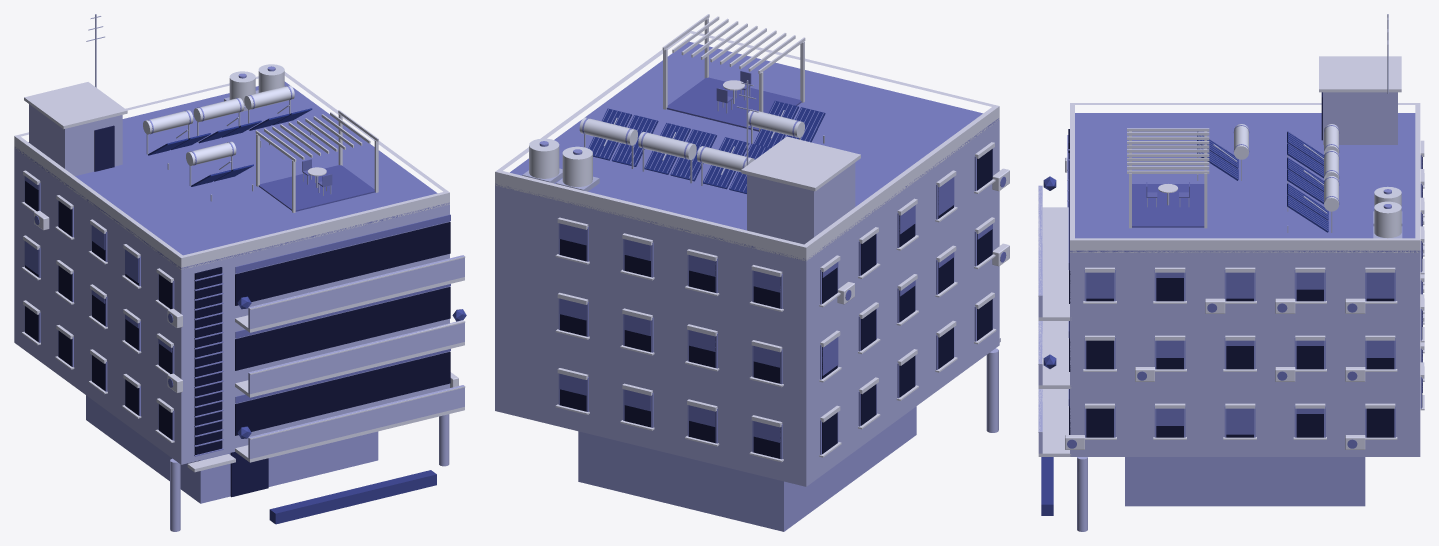
Rendered from blockB.glb.
3 views of the same model, side by side, from view 1: azimuth 30°, elevation 25°; view 2: azimuth 150°, elevation 25°; view 3: azimuth 270°, elevation 25° (orthographic). The views are drawn at different scales.
Visible parts, largest first — view 1: baked1, baked4, baked9, baked6, baked0, baked7, baked12, baked5, baked3, baked14, baked11, baked2 (+2 smaller); view 2: baked1, baked6, baked9, baked0, baked4, baked7, baked11, baked5, baked12, baked14, baked13; view 3: baked1, baked9, baked6, baked0, baked4, baked7, baked5, baked11, baked12, baked14, baked3, baked13.
Boxes of the visible parts, box(x1,y1,x2,y2) form: baked1: box(14, 104, 464, 531); baked4: box(25, 181, 450, 454); baked9: box(14, 81, 449, 269); baked6: box(14, 72, 465, 472); baked0: box(86, 395, 378, 503); baked7: box(24, 176, 450, 403); baked12: box(143, 64, 294, 165); baked5: box(24, 66, 303, 456); baked3: box(269, 470, 436, 524); baked14: box(258, 165, 375, 211); baked11: box(148, 108, 312, 186); baked2: box(230, 452, 268, 497); baked1: box(495, 120, 999, 486); baked6: box(495, 14, 1009, 462); baked9: box(495, 41, 998, 260); baked0: box(578, 406, 916, 531); baked4: box(560, 149, 992, 458); baked7: box(559, 176, 1006, 442); baked11: box(588, 100, 825, 193); baked5: box(539, 101, 992, 459); baked12: box(529, 109, 804, 186); baked14: box(666, 77, 801, 131); baked13: box(522, 80, 824, 191); baked1: box(1038, 92, 1420, 531); baked9: box(1070, 113, 1420, 252); baked6: box(1038, 56, 1424, 456); baked0: box(1125, 457, 1365, 506); baked4: box(1068, 129, 1422, 437); baked7: box(1067, 153, 1422, 448); baked5: box(1067, 125, 1421, 437); baked11: box(1197, 131, 1328, 232); baked12: box(1234, 124, 1401, 238); baked14: box(1132, 184, 1204, 227); baked3: box(1041, 457, 1053, 515); baked13: box(1147, 14, 1402, 238).
Size of the model in its own units: 13.68 by 18.15 by 15.44.
